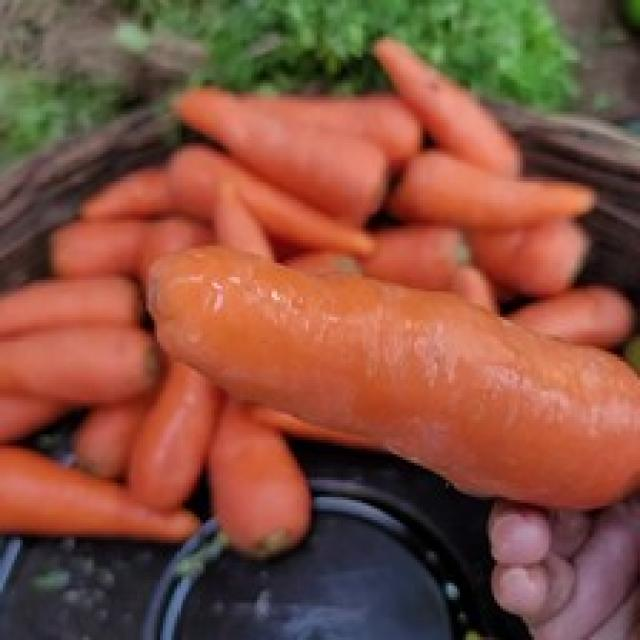Fresh_Carrot: (151, 237, 640, 476)
